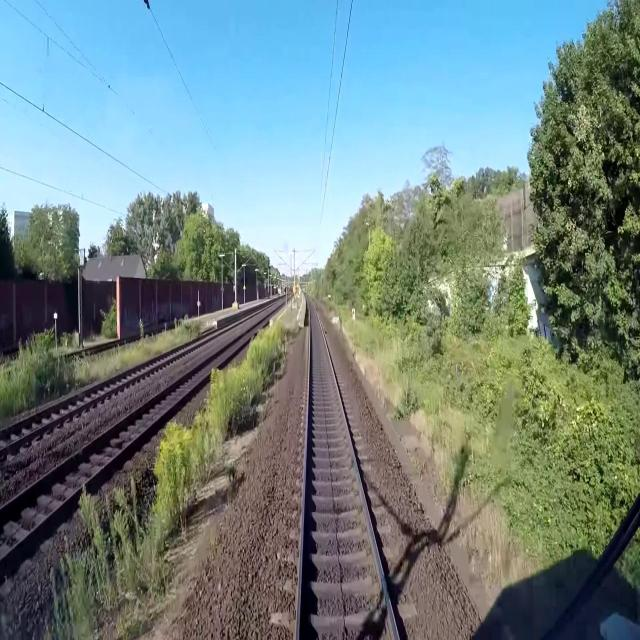rail-track: (0, 305, 282, 555), (301, 296, 395, 639), (0, 325, 227, 446)
